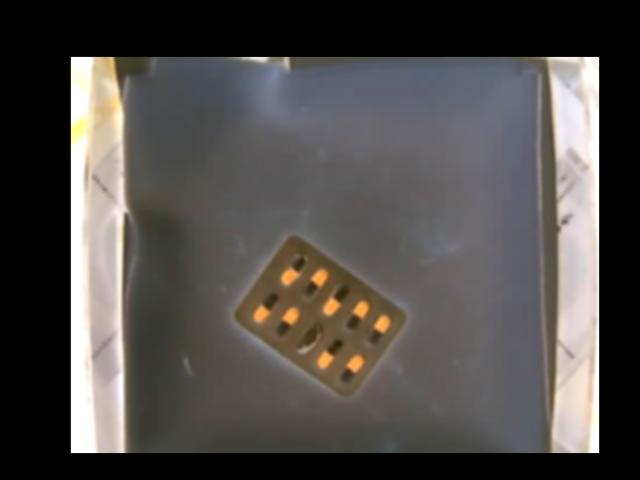Medicine: (234, 234, 408, 396)
